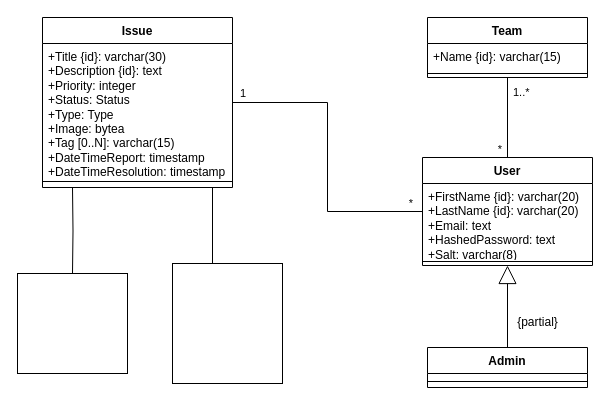
Some shapes in this 610 by 410 pixel diagram are drawn without their labels. Here are the shapes that lost their labels. From the top down, the box of each, then its label:
(16, 272, 128, 374): «enumeration » Status +Todo +Ongoing +Done
(172, 262, 282, 384): «enumeration » Type +Bug +Documentation +Feature +Question
